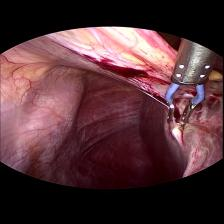Bipolar: (165, 58, 211, 122)
